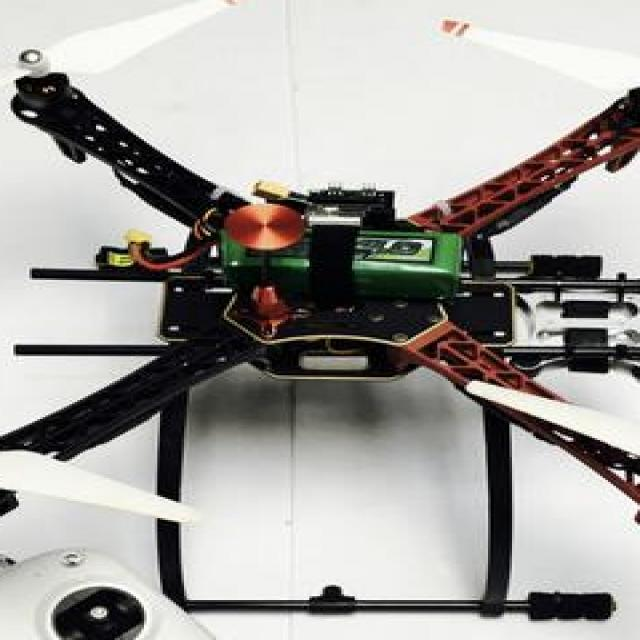drone: (0, 14, 640, 630)
